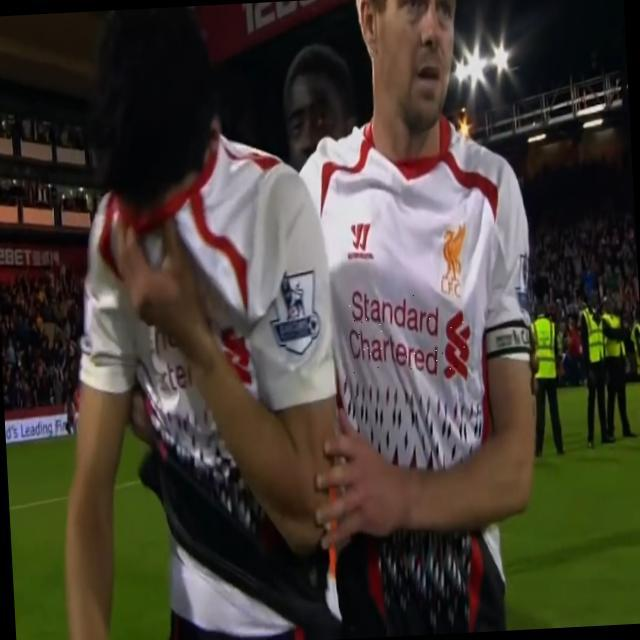Standard Chartered: (347, 288, 472, 383)
